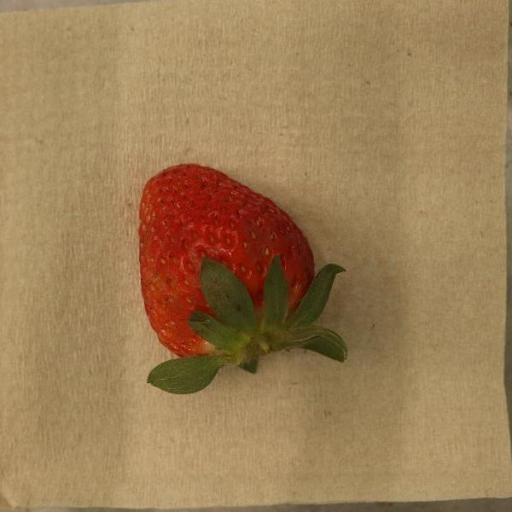Strawberry: (139, 164, 349, 396)
